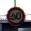Speed Limit -60-: (5, 5, 24, 25)
